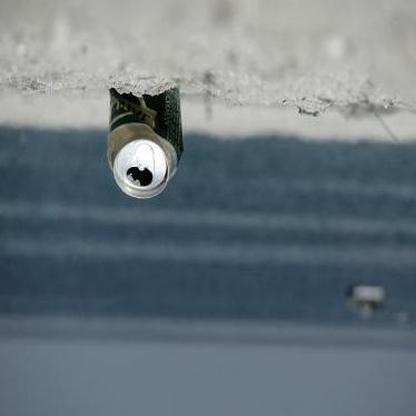can: (103, 78, 187, 205)
